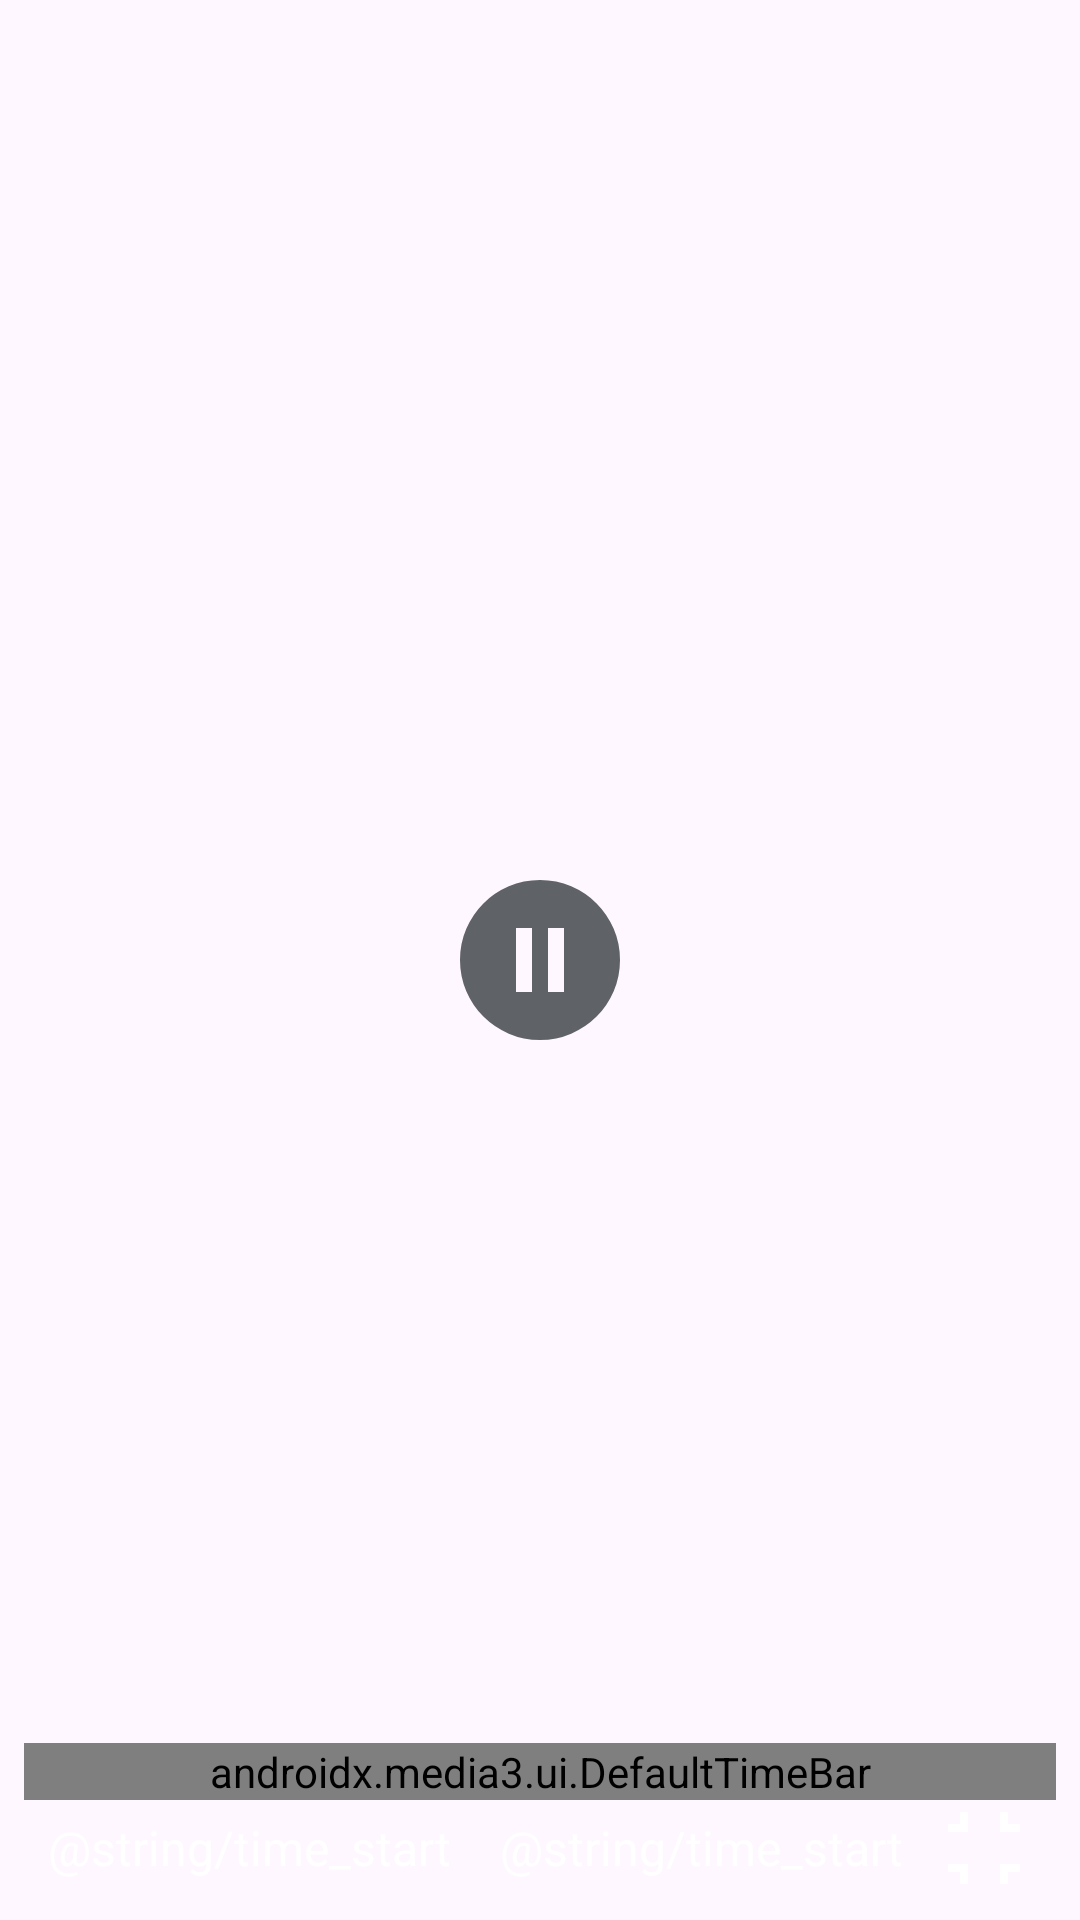

Screen size 1080×1920. Icon name, then its box in pixels as (left=x1, top=y1, right=x2, bottom=y2):
pause: (left=460, top=880, right=620, bottom=1040)
